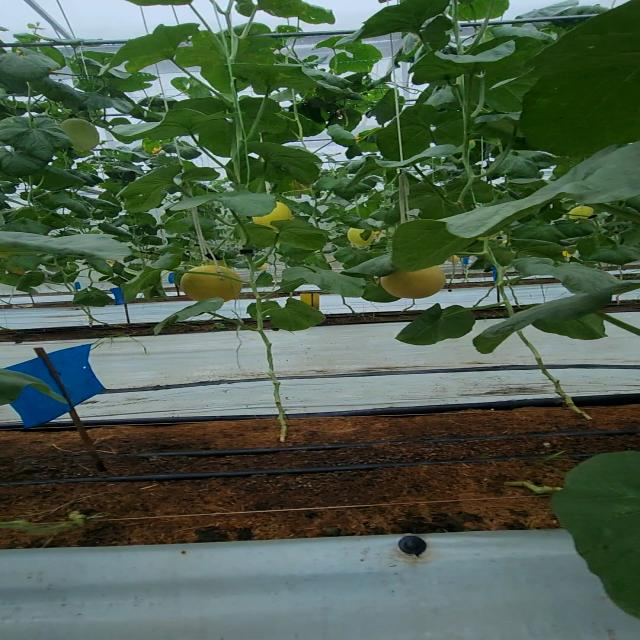Melon: (173, 262, 251, 308), (372, 259, 454, 300)
